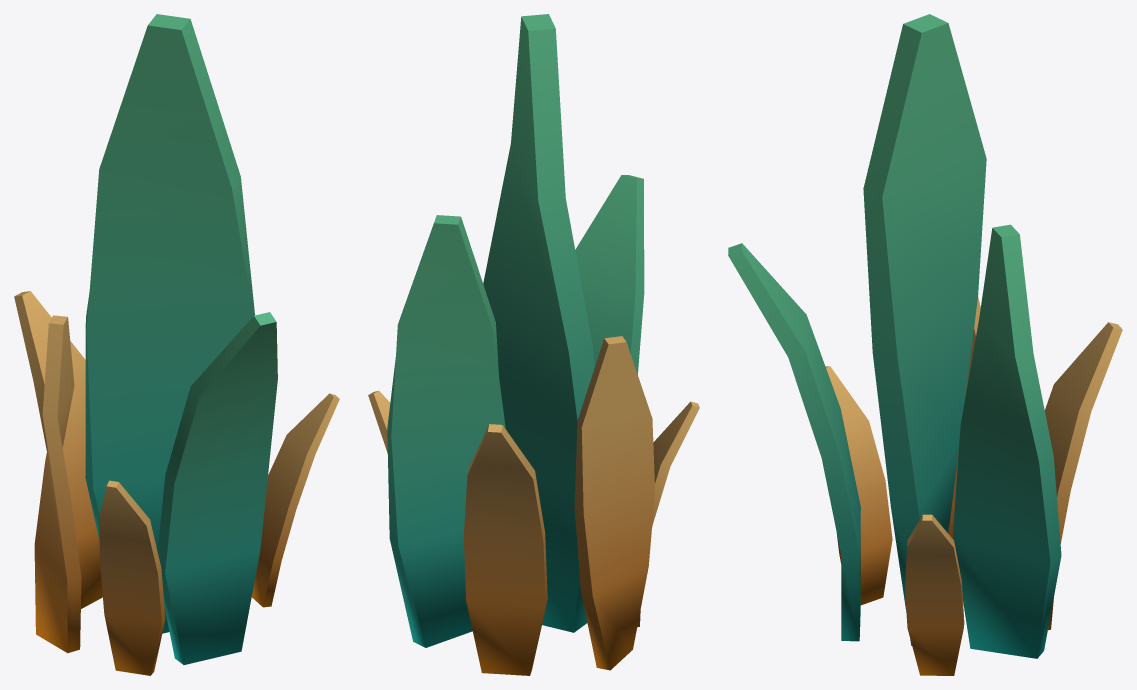
File: Plant4.glb
The picture shows the model from 3 angles, left to right: view 1: azimuth 30°, elevation 25°; view 2: azimuth 150°, elevation 25°; view 3: azimuth 270°, elevation 25°; orthographic projection.
Parts seen in each view (by area): view 1: Plant4; view 2: Plant4; view 3: Plant4.
Boxes of the visible parts, x1,y1,x2,y2 form: Plant4: (14,14,339,675); Plant4: (368,14,699,675); Plant4: (728,14,1122,675).
Size of the model in its own units: 0.5553 by 1.12 by 0.6561.
